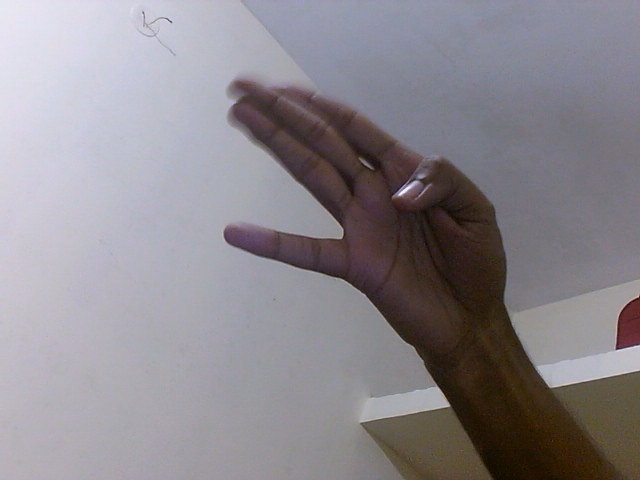hand: (217, 76, 509, 370)
